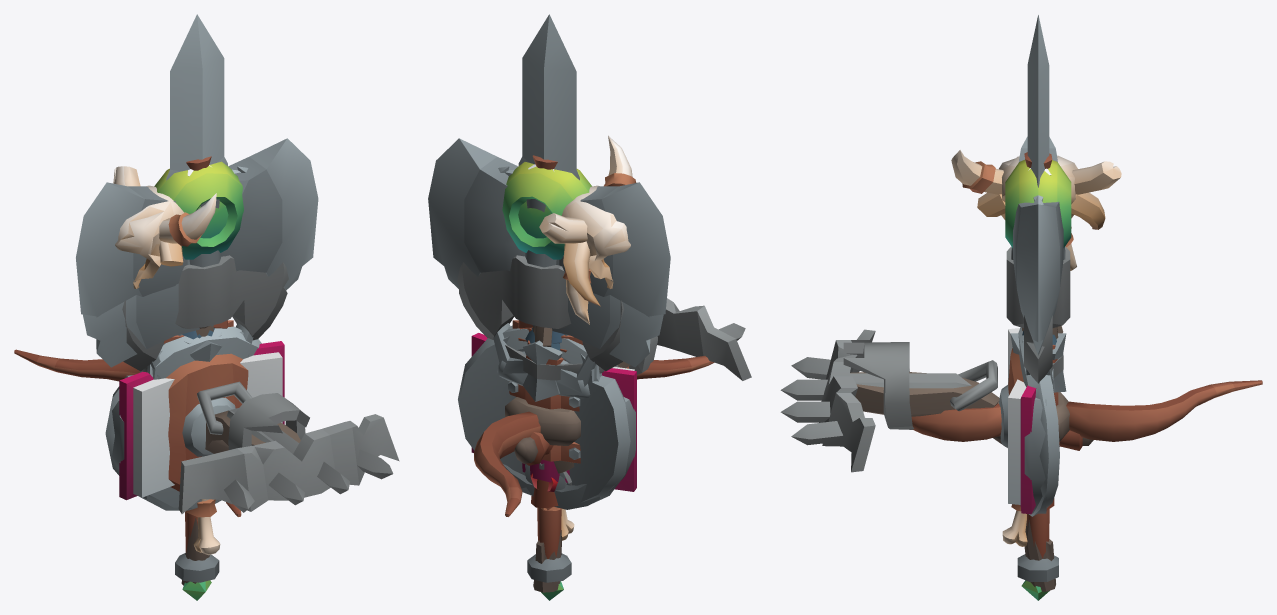
File: weapons.glb
The picture shows the model from 3 angles, left to right: view 1: azimuth 30°, elevation 25°; view 2: azimuth 150°, elevation 25°; view 3: azimuth 270°, elevation 25°; orthographic projection.
Parts seen in each view (by area): view 1: axe_2handed, Skeleton_Crossbow, shield_round, spellbook_open, sword_2handed, Skeleton_Axe, Skeleton_Staff, staff, axe_1handed, bow, Skeleton_Shield_Small_A; view 2: axe_2handed, shield_round, sword_2handed, Skeleton_Staff, Skeleton_Axe, staff, Skeleton_Crossbow, bow, axe_1handed, spellbook_open, Skeleton_Shield_Small_A, Skeleton_Blade (+1 smaller); view 3: Skeleton_Crossbow, bow, Skeleton_Staff, axe_2handed, staff, shield_round, sword_2handed, spellbook_open, Skeleton_Axe, Skeleton_Shield_Small_A.
Boxes of the visible parts, x1,y1,x2,y2 form: axe_2handed: (76,138,318,338); Skeleton_Crossbow: (178,381,399,513); shield_round: (105,326,261,510); spellbook_open: (119,341,284,500); sword_2handed: (150,14,253,379); Skeleton_Axe: (122,255,288,371); Skeleton_Staff: (113,166,220,585); staff: (154,161,248,600); axe_1handed: (82,259,213,367); bow: (14,349,241,516); Skeleton_Shield_Small_A: (112,327,243,509); axe_2handed: (428,138,670,508); shield_round: (458,325,630,503); sword_2handed: (493,14,595,492); Skeleton_Staff: (533,135,636,592); Skeleton_Axe: (457,255,623,469); staff: (498,162,591,600); Skeleton_Crossbow: (514,298,751,465); bow: (474,356,714,516); axe_1handed: (532,259,663,367); spellbook_open: (471,333,636,491); Skeleton_Shield_Small_A: (475,328,635,509); Skeleton_Blade: (505,169,604,485); Skeleton_Crossbow: (780,329,1093,472); bow: (911,380,1262,441); Skeleton_Staff: (951,150,1121,591); axe_2handed: (1011,136,1065,510); staff: (1005,160,1071,600); shield_round: (999,327,1069,516); sword_2handed: (1010,15,1066,392); spellbook_open: (1008,328,1058,514); Skeleton_Axe: (1006,246,1070,383); Skeleton_Shield_Small_A: (1022,340,1046,513).
Bounding box in the file's own units: 1.24 × 2.86 × 2.13.
Materials: 6 (6 with a texture image).
